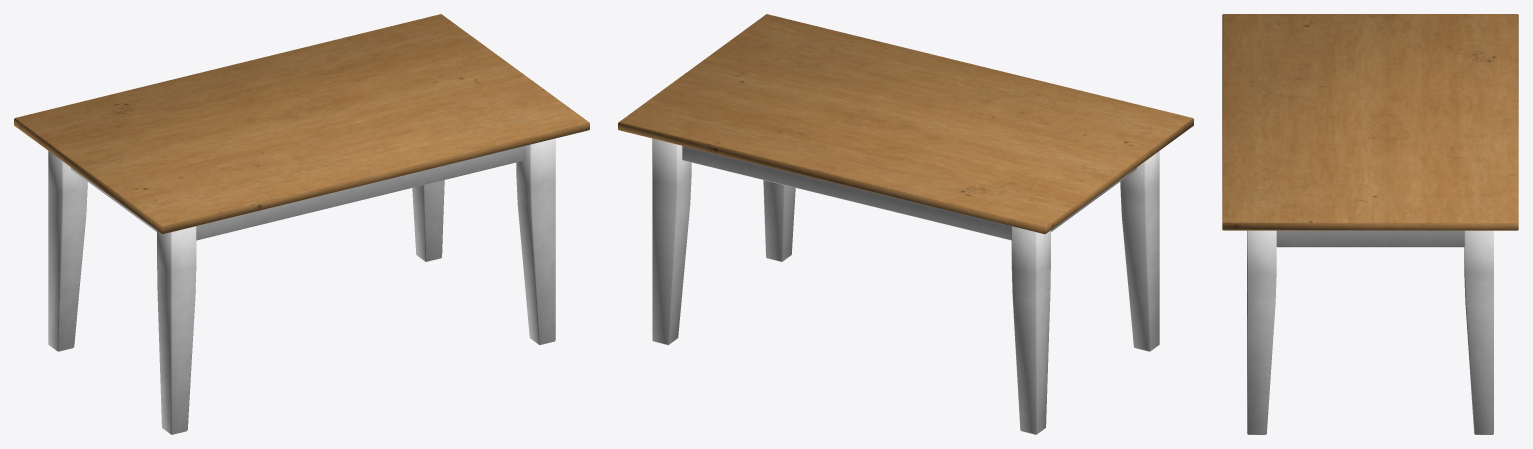
File: table.glb
3 views of the same model, side by side, from view 1: azimuth 30°, elevation 25°; view 2: azimuth 150°, elevation 25°; view 3: azimuth 270°, elevation 25° (orthographic).
Parts seen in each view (by area): view 1: Plane; view 2: Plane; view 3: Plane.
Part boxes in pixels (x1,y1,x2,y2): Plane: (14, 14, 589, 434); Plane: (618, 14, 1193, 434); Plane: (1222, 14, 1518, 434).
Size of the model in its own units: 1.86 by 0.9302 by 1.12.
Materials: 1 (1 with a texture image).
